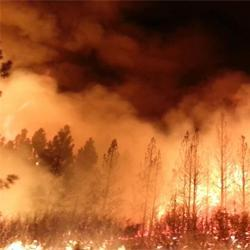fire: (198, 181, 222, 203), (8, 238, 38, 250)
